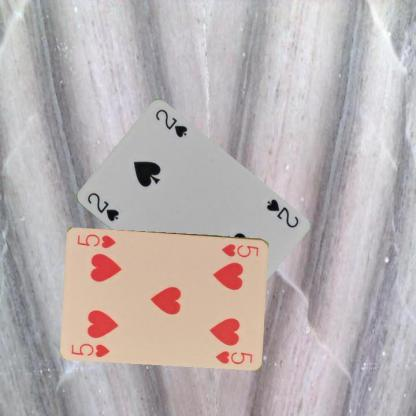2s: (84, 190, 121, 223), (263, 196, 300, 229)
5h: (69, 340, 112, 358), (220, 241, 260, 258)
